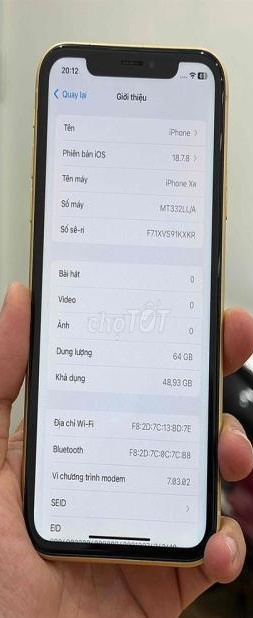scratch: (47, 46, 56, 57)
